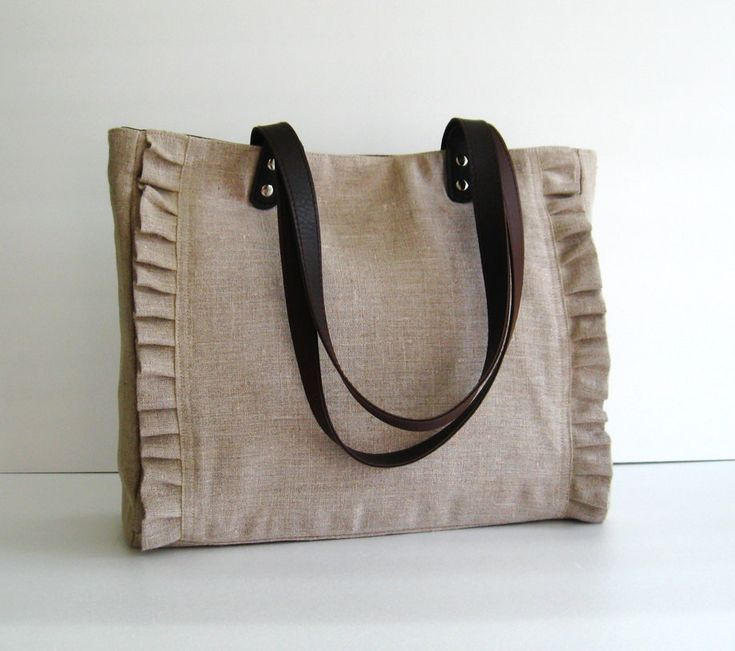nylon: (107, 125, 614, 552)
